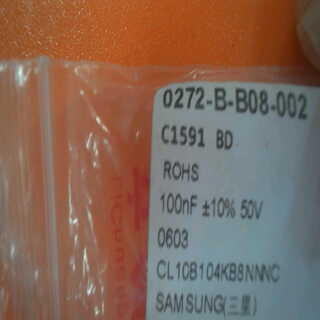100nF: (157, 191, 199, 219)
